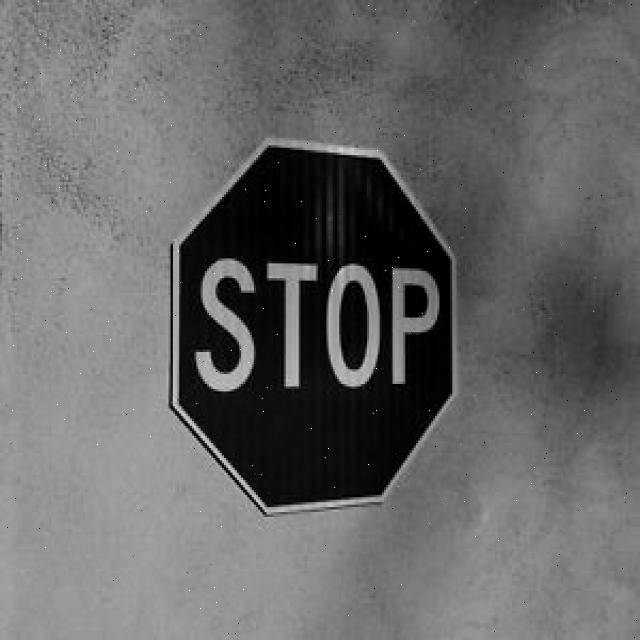Stop-sign: (152, 128, 475, 531)
